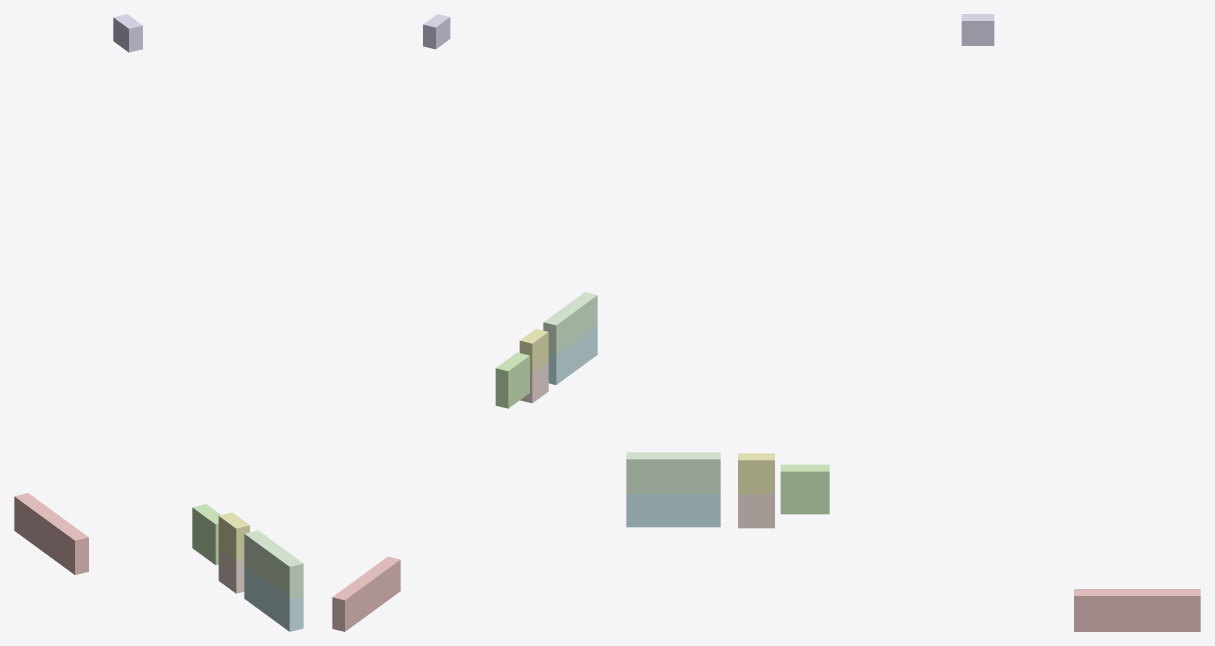
The model's file is adonis-hud-buttons1.dae.
3 renders of one model, left to right at view 1: azimuth 30°, elevation 25°; view 2: azimuth 150°, elevation 25°; view 3: azimuth 270°, elevation 25°, orthographic. The views are drawn at different scales.
Visible parts, largest first — view 1: prim4; view 2: prim4; view 3: prim4.
Part boxes in pixels (<box>): prim4: <box>14,14,303,631</box>; prim4: <box>332,14,597,631</box>; prim4: <box>626,14,1200,631</box>.
Size of the model in its own units: 0.0115 by 0.3935 by 0.4618.
